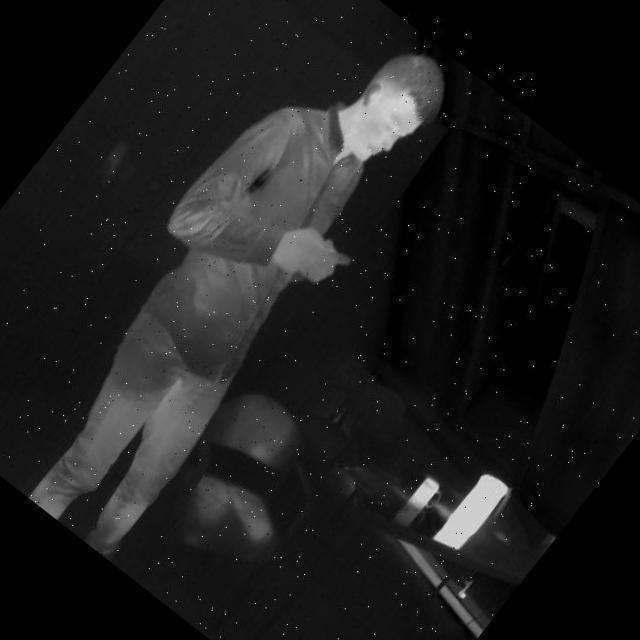person: (0, 0, 490, 569)
